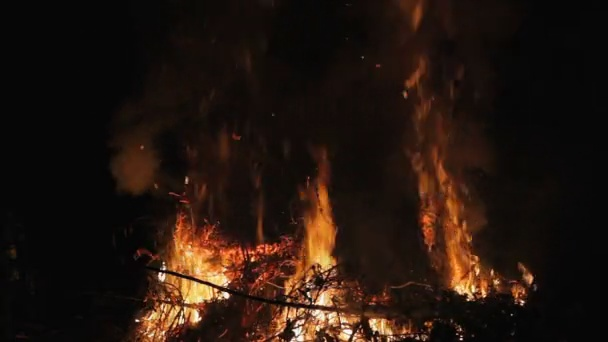fire: (280, 187, 361, 341), (132, 225, 230, 336), (424, 153, 485, 301)
